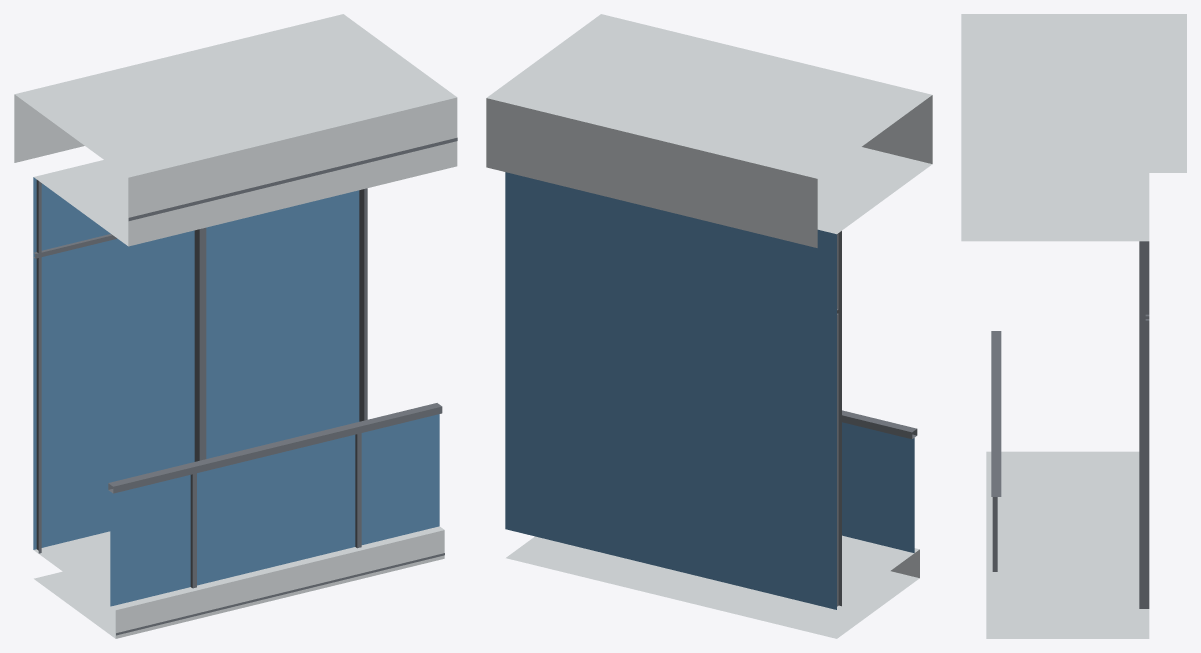
File: top-w1_close.fbx
3 renders of one model, left to right at view 1: azimuth 30°, elevation 25°; view 2: azimuth 150°, elevation 25°; view 3: azimuth 270°, elevation 25°, orthographic.
Parts seen in each view (by area): view 1: a2002/800/top-w1_close; view 2: a2002/800/top-w1_close; view 3: a2002/800/top-w1_close.
Part boxes in pixels (x1,y1,x2,y2): a2002/800/top-w1_close: (14,14,457,638); a2002/800/top-w1_close: (486,14,932,638); a2002/800/top-w1_close: (961,14,1186,638).
Bounding box in the file's own units: 3 × 4.1 × 1.8.
